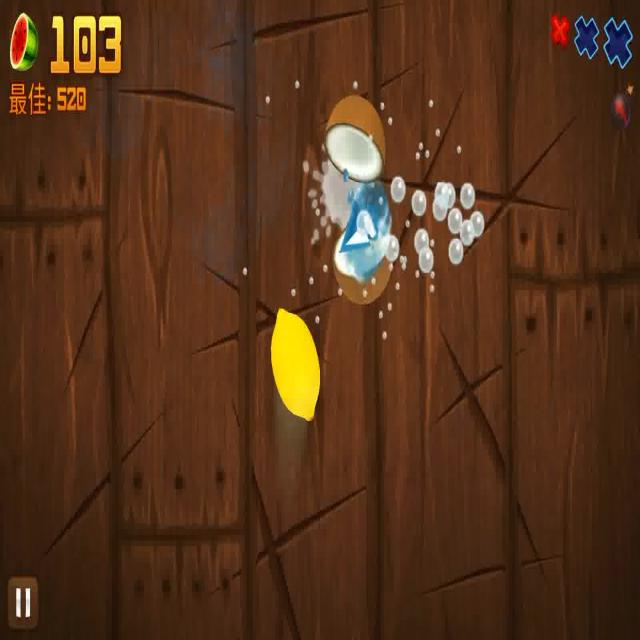fruit: (320, 86, 395, 184), (266, 305, 324, 430), (329, 208, 397, 310)
